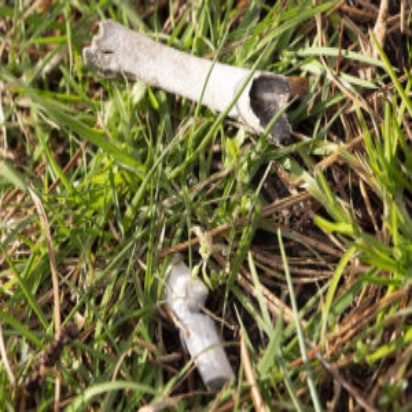cigarette: (157, 260, 239, 392)
